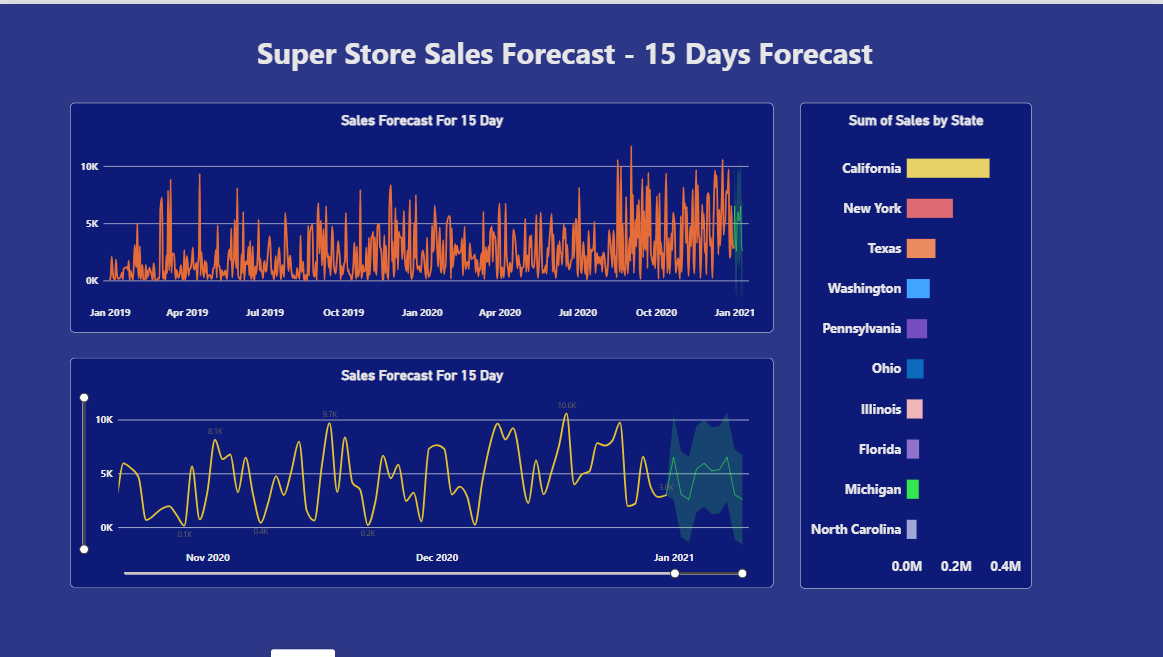

The page's visual inventory and layout, read from the dashboard file:
{"tool":"powerbi","page":{"name":"Page 2","canvas":[1920,1080],"ordinal":1},"visuals":[{"type":"lineChart","title":"Sales Forecast For 15 Day","fields":{"Category":["SuperStore_Sales_Dataset.Order Date"],"Y":["Sum(SuperStore_Sales_Dataset.Sales)"]},"box":[115,161.7,1158.3,378.3],"z":0},{"type":"lineChart","title":"Sales Forecast For 15 Day","fields":{"Category":["SuperStore_Sales_Dataset.Order Date"],"Y":["Sum(SuperStore_Sales_Dataset.Sales)"]},"box":[115,583.3,1158.3,378.3],"z":1000},{"type":"clusteredBarChart","fields":{"Category":["SuperStore_Sales_Dataset.State"],"Y":["Sum(SuperStore_Sales_Dataset.Sales)"]},"box":[1316.7,161.7,381.7,800],"z":1001},{"type":"textbox","box":[336.7,48.3,1185,85],"z":1003}]}

Visuals, with their boxes in screenshot pixels (x1, y1, x2, y2), scaled from the page's 1920x1080 canvas onto the 1163x657 screenshot:
"Sales Forecast For 15 Day" lineChart: BBox(70, 98, 771, 328)
"Sales Forecast For 15 Day" lineChart: BBox(70, 355, 771, 585)
clusteredBarChart - SuperStore_Sales_Dataset.State x Sum(SuperStore_Sales_Dataset.Sales): BBox(798, 98, 1029, 585)
textbox: BBox(204, 29, 922, 81)
